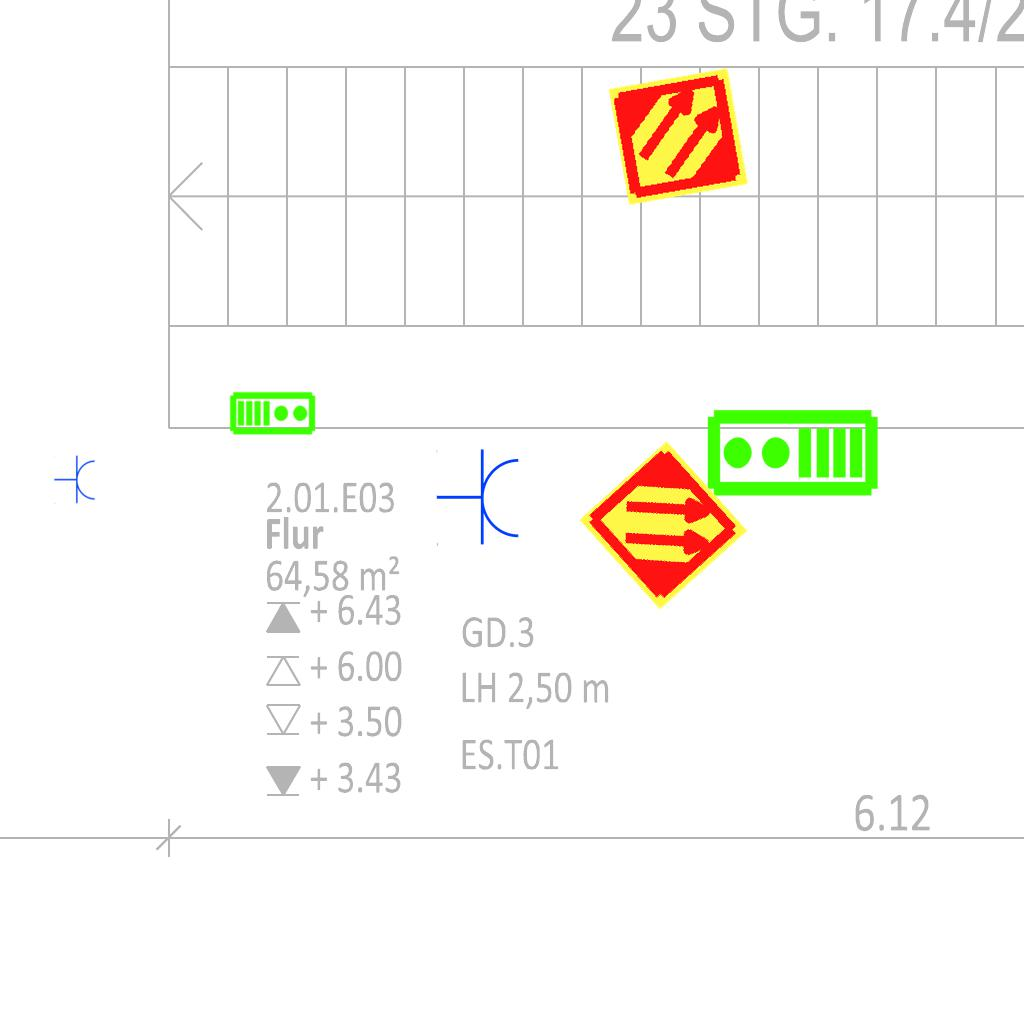ASR_Ansaugrauchmelder: (575, 437, 752, 614), (606, 64, 751, 209)
Gegensprechanlage_mit_Video: (704, 407, 880, 502), (229, 389, 317, 436)
Schukosteckdose_einfach: (436, 448, 523, 548), (54, 455, 97, 505)
